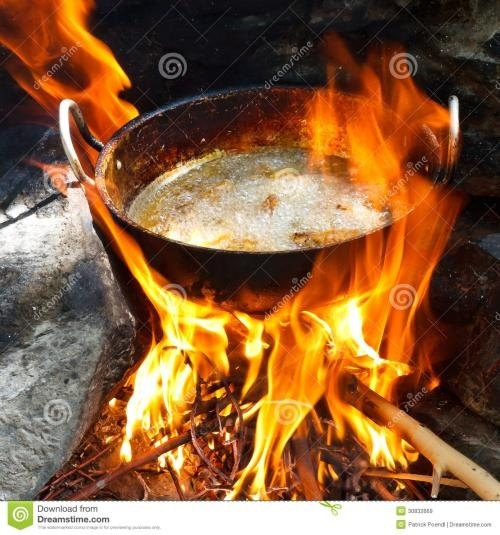fire: (101, 125, 463, 480)
